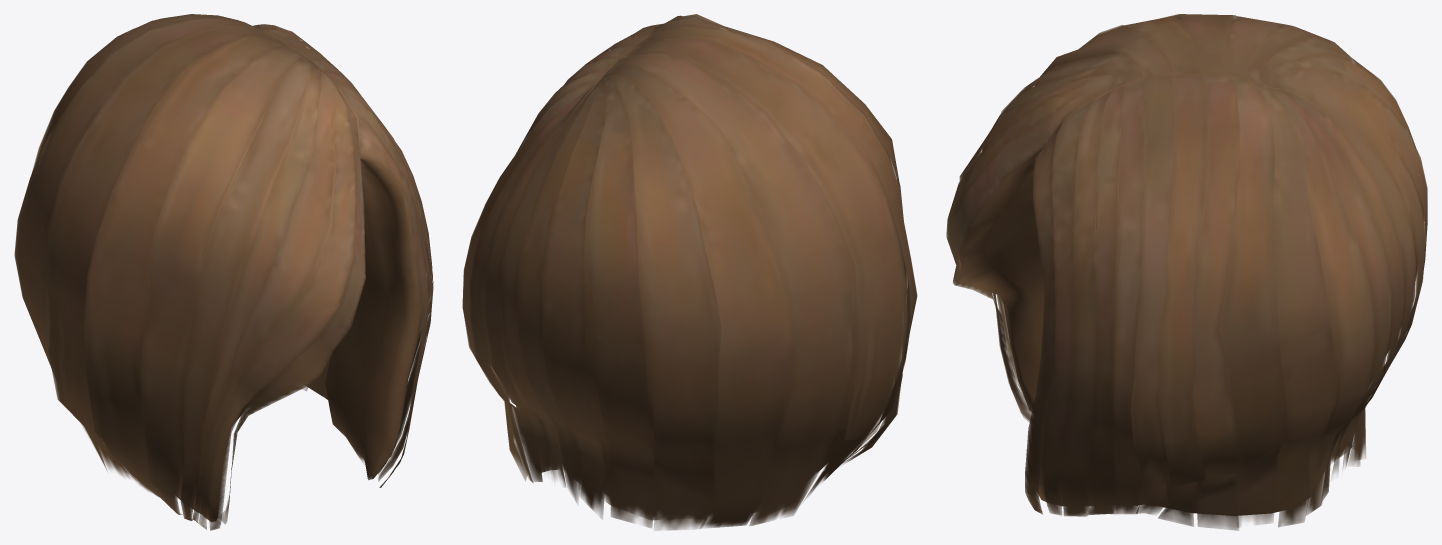
File: hair_bob_brown.glb
The picture shows the model from 3 angles, left to right: view 1: azimuth 30°, elevation 25°; view 2: azimuth 150°, elevation 25°; view 3: azimuth 270°, elevation 25°; orthographic projection. The views are drawn at different scales.
Visible parts, largest first — view 1: hair_bob_brown; view 2: hair_bob_brown; view 3: hair_bob_brown.
Boxes of the visible parts, x1=… form: hair_bob_brown: x1=14, y1=14, x2=433, y2=530; hair_bob_brown: x1=462, y1=14, x2=917, y2=530; hair_bob_brown: x1=946, y1=14, x2=1427, y2=530.
Bounding box in the file's own units: 0.2013 × 0.2336 × 0.2262.
Materials: 1 (1 with a texture image).
